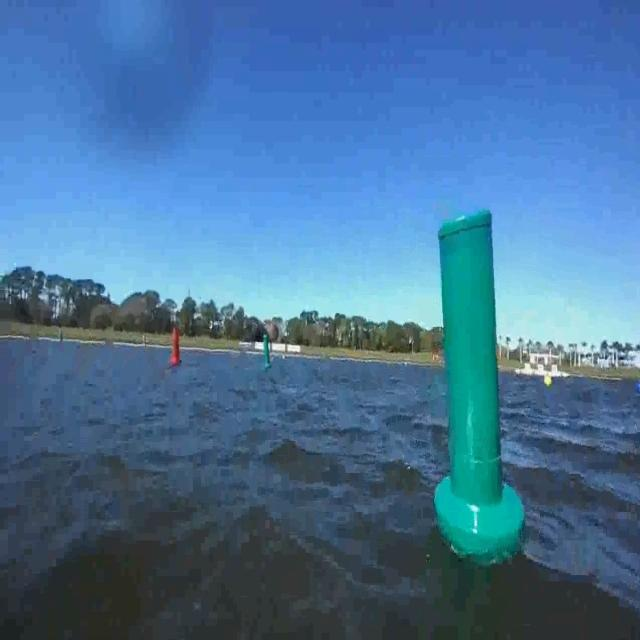blue-buoy: (635, 380, 640, 394)
green-column-buoy: (434, 208, 530, 574), (264, 334, 274, 370)
red-column-buoy: (170, 327, 183, 364)
yellow-buoy: (543, 375, 552, 390)
